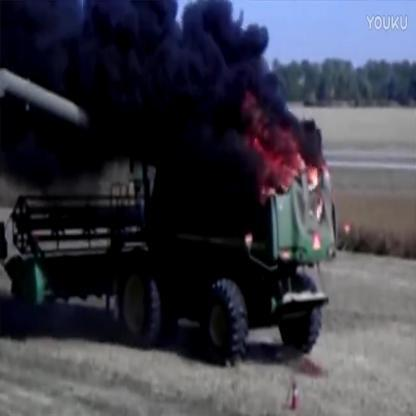smoke: (86, 2, 286, 136)
